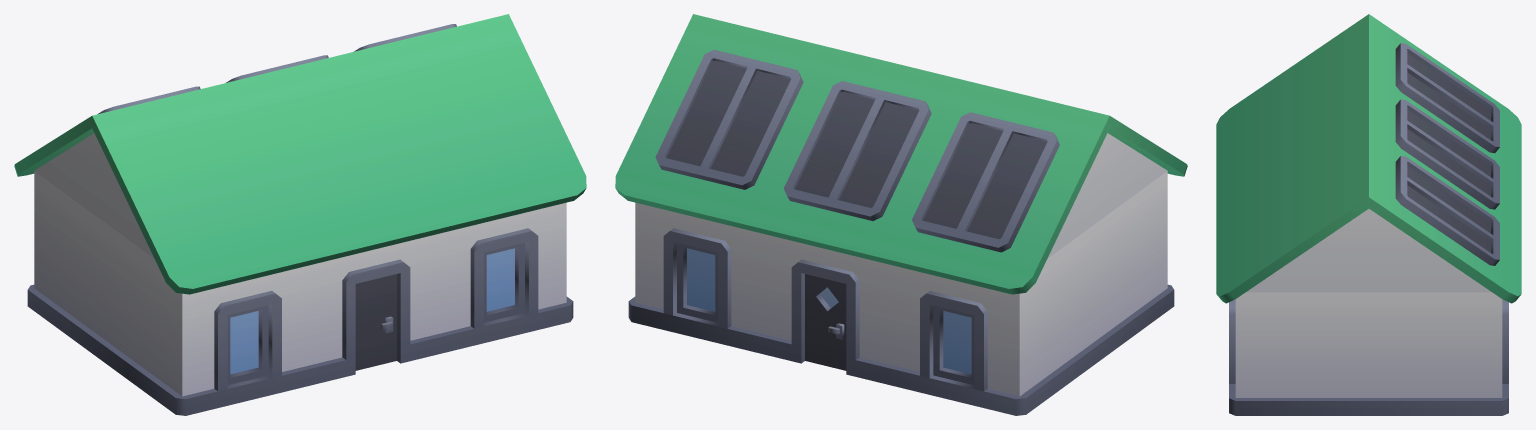
The model's file is house-h.glb.
3 renders of one model, left to right at view 1: azimuth 30°, elevation 25°; view 2: azimuth 150°, elevation 25°; view 3: azimuth 270°, elevation 25°, orthographic. The views are drawn at different scales.
Parts seen in each view (by area): view 1: building-type-h; view 2: building-type-h; view 3: building-type-h.
Part boxes in pixels (x1,y1,x2,y2): building-type-h: (14,14,586,415); building-type-h: (615,14,1187,415); building-type-h: (1216,14,1521,415).
Bounding box in the file's own units: 1.3 × 0.7375 × 0.9161.
1 material, 1 textured.
